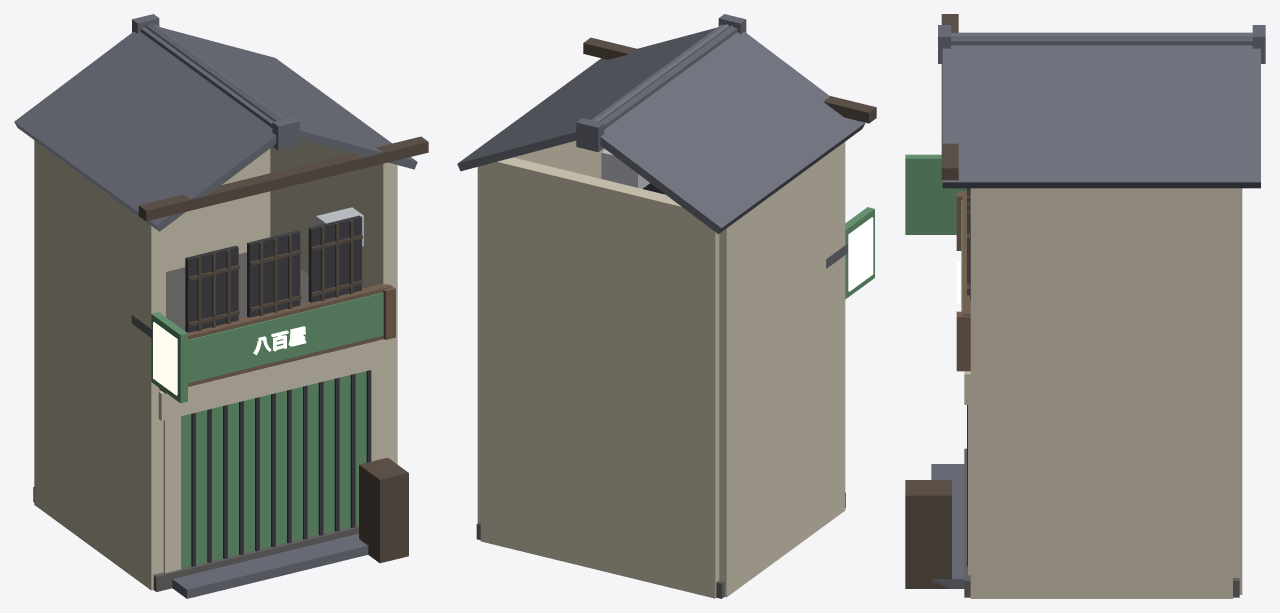
The model's file is prop_shop_yaoya_closed.glb.
3 views of the same model, side by side, from view 1: azimuth 30°, elevation 25°; view 2: azimuth 150°, elevation 25°; view 3: azimuth 270°, elevation 25° (orthographic). The views are drawn at different scales.
Parts seen in each view (by area): view 1: shop_yaoya_closed; view 2: shop_yaoya_closed; view 3: shop_yaoya_closed.
Part boxes in pixels (x1,y1,x2,y2): shop_yaoya_closed: (14,14,428,598); shop_yaoya_closed: (457,14,876,598); shop_yaoya_closed: (905,14,1265,598).
Size of the model in its own units: 3.9 by 5.9 by 3.85.
